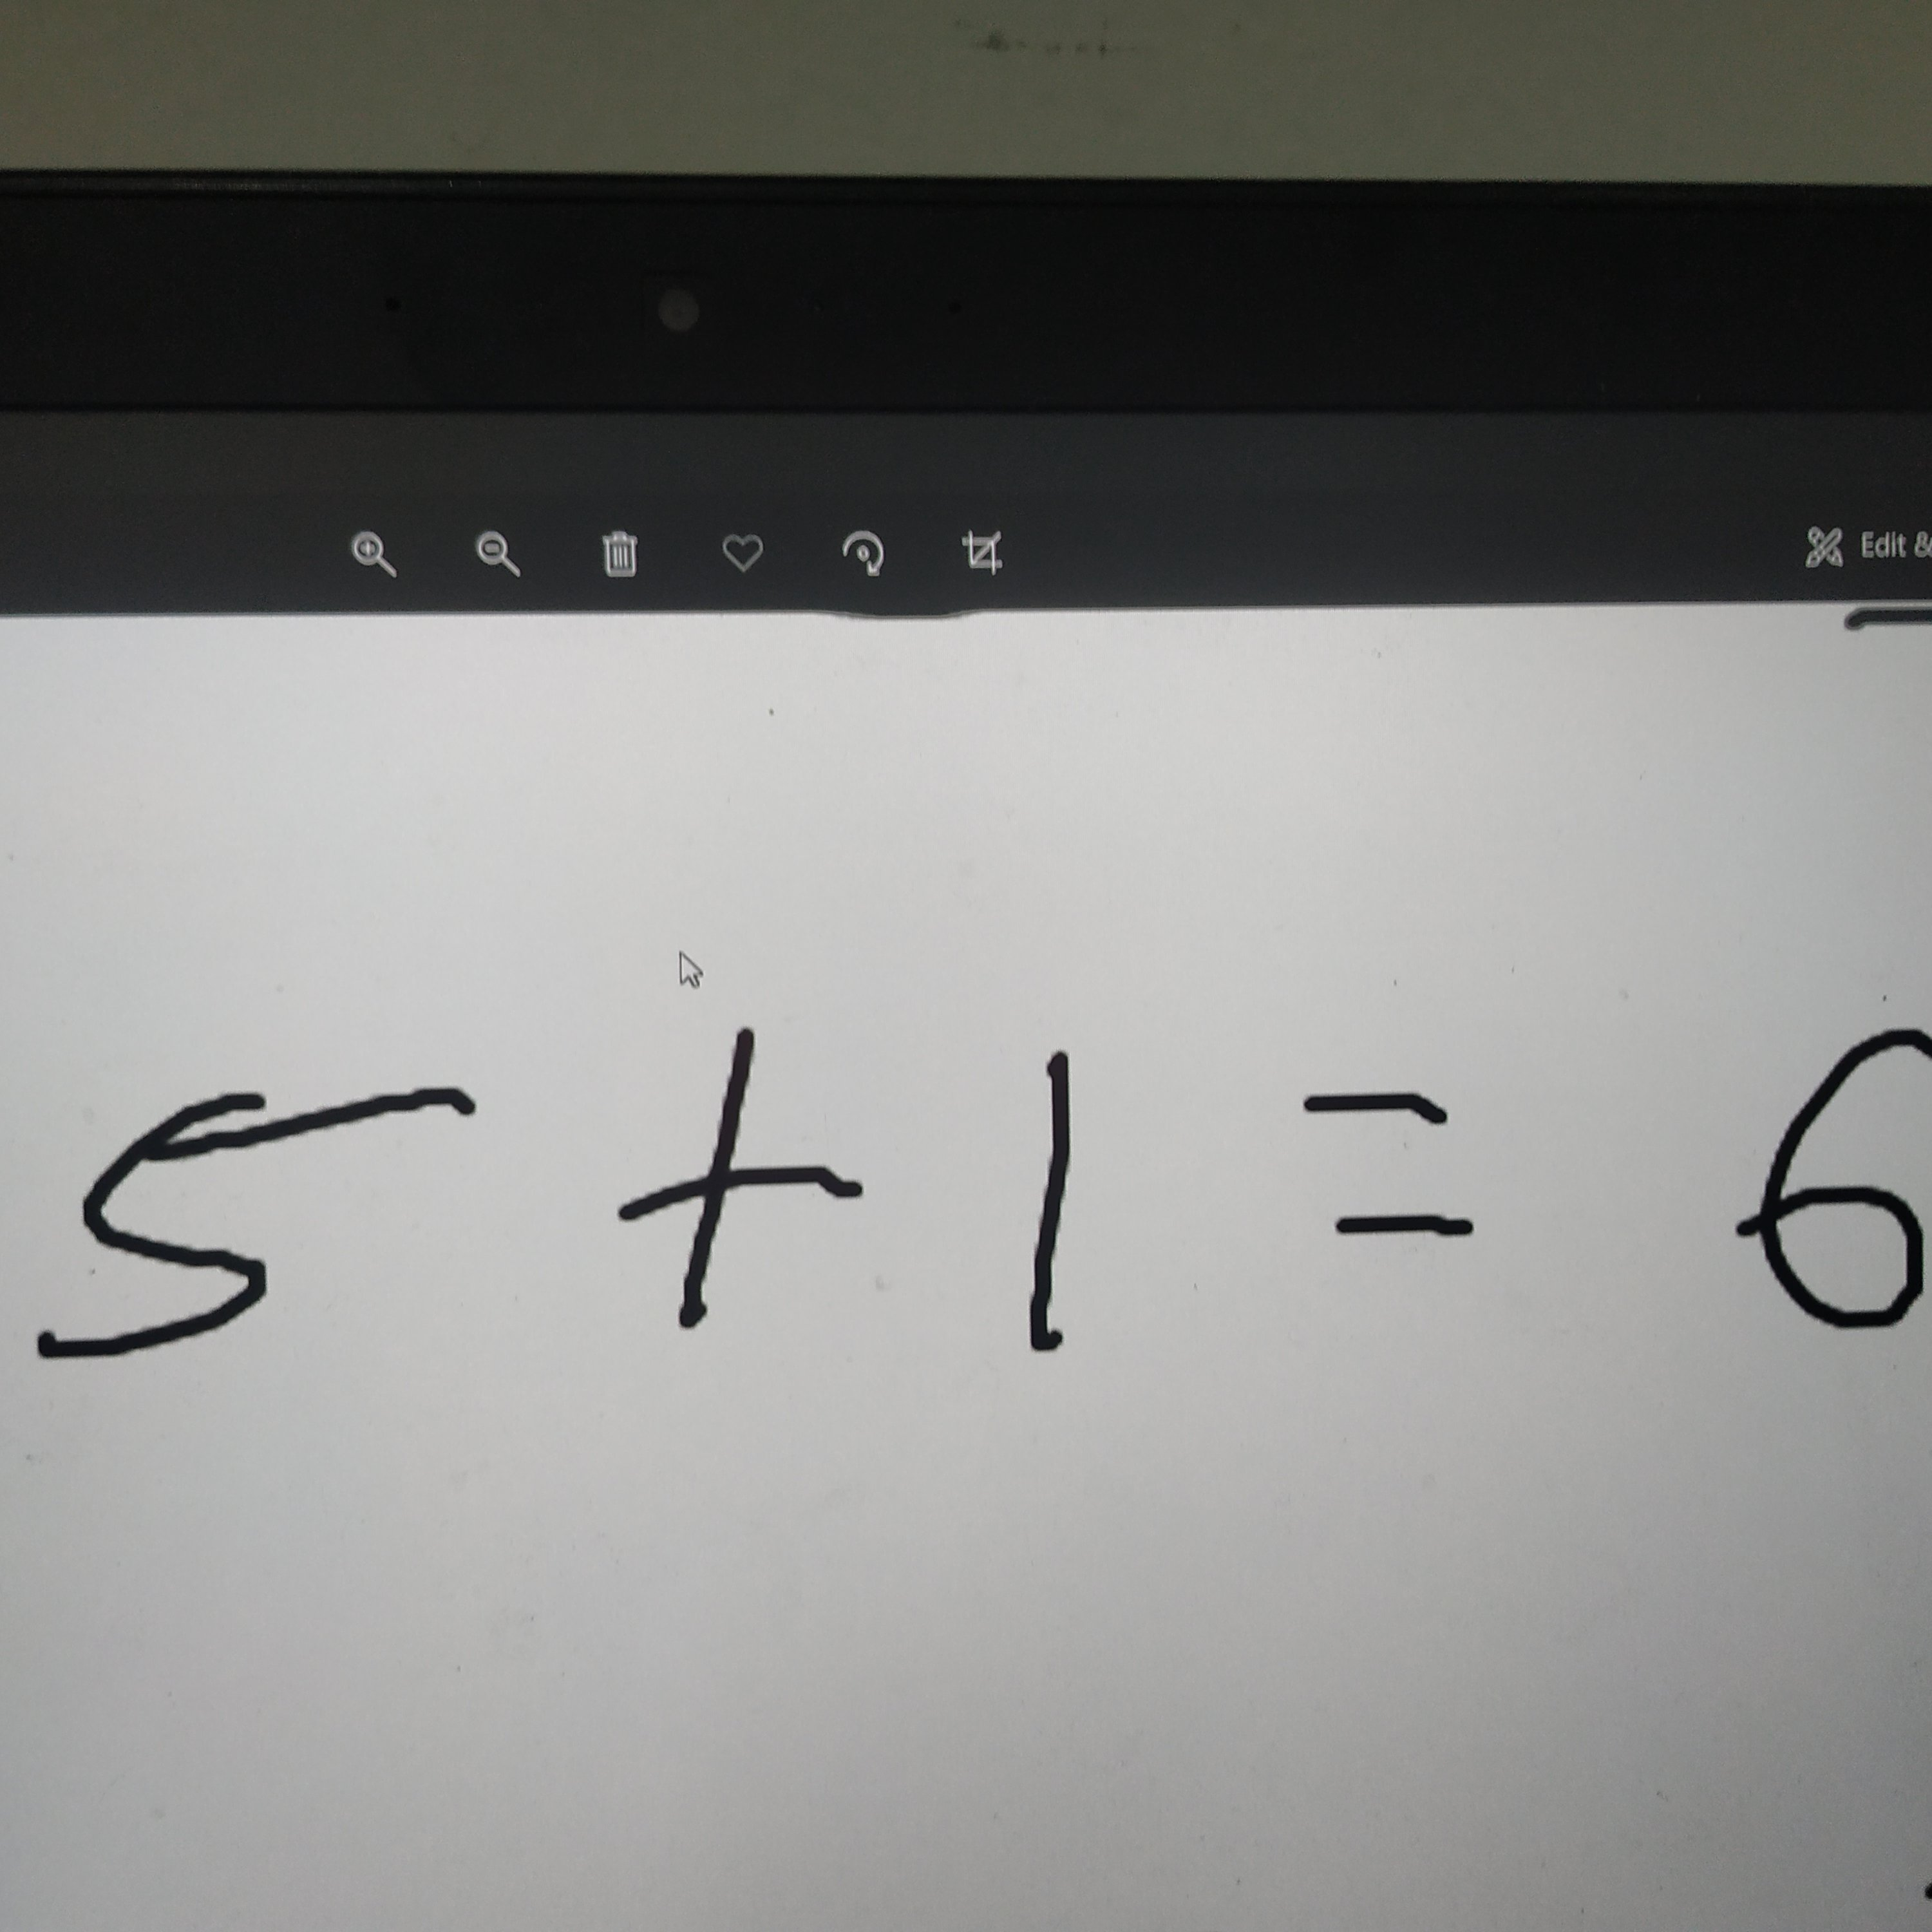equal: (1274, 1059, 1492, 1261)
num1: (999, 1036, 1124, 1373)
num5: (13, 1084, 511, 1371)
num6: (1662, 1007, 1932, 1349)
sum: (594, 999, 887, 1363)
